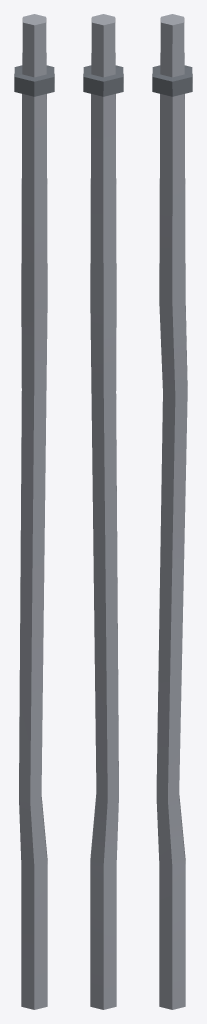
File: SM_Prop_StreetSign_Pole_01.fbx
3 renders of one model, left to right at view 1: azimuth 30°, elevation 25°; view 2: azimuth 210°, elevation 25°; view 3: azimuth 330°, elevation 25°, orthographic.
Visible parts, largest first — view 1: SM_Prop_StreetSign_Pole_01; view 2: SM_Prop_StreetSign_Pole_01; view 3: SM_Prop_StreetSign_Pole_01.
Boxes of the visible parts, box(x1,y1,x2,y2) form: SM_Prop_StreetSign_Pole_01: box(14, 14, 54, 1009); SM_Prop_StreetSign_Pole_01: box(83, 14, 123, 1009); SM_Prop_StreetSign_Pole_01: box(152, 14, 192, 1009).
Bounding box in the file's own units: 10.98 × 256 × 9.51.
